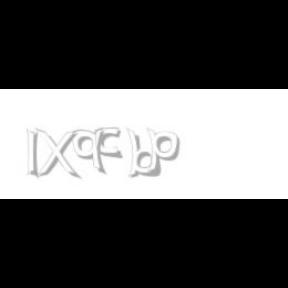X: (34, 128, 78, 180)
b: (126, 128, 164, 178)
c: (96, 128, 124, 160)
l: (26, 128, 42, 180)
p: (146, 128, 183, 174)
q: (72, 128, 108, 176)
